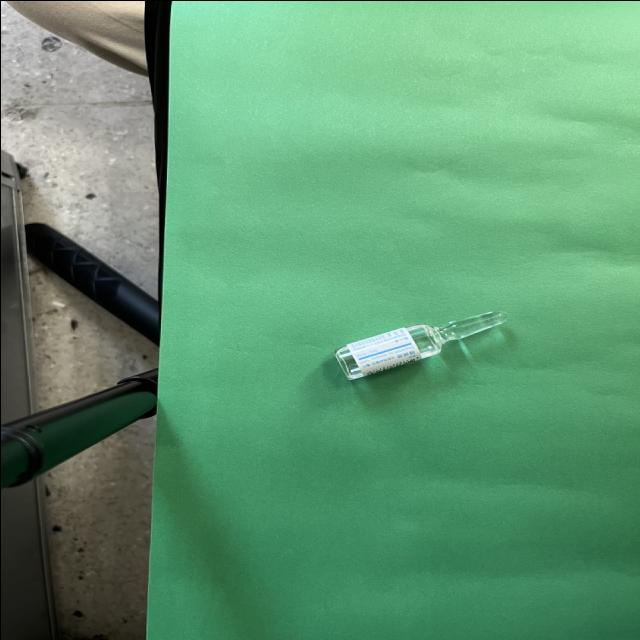Ampoules: (334, 311, 503, 379)
